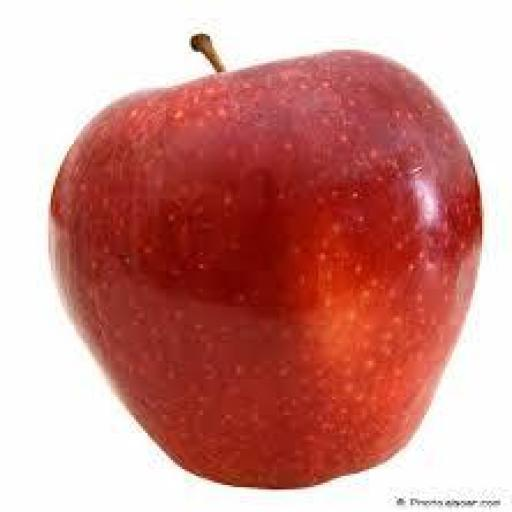apple: (51, 52, 482, 487)
